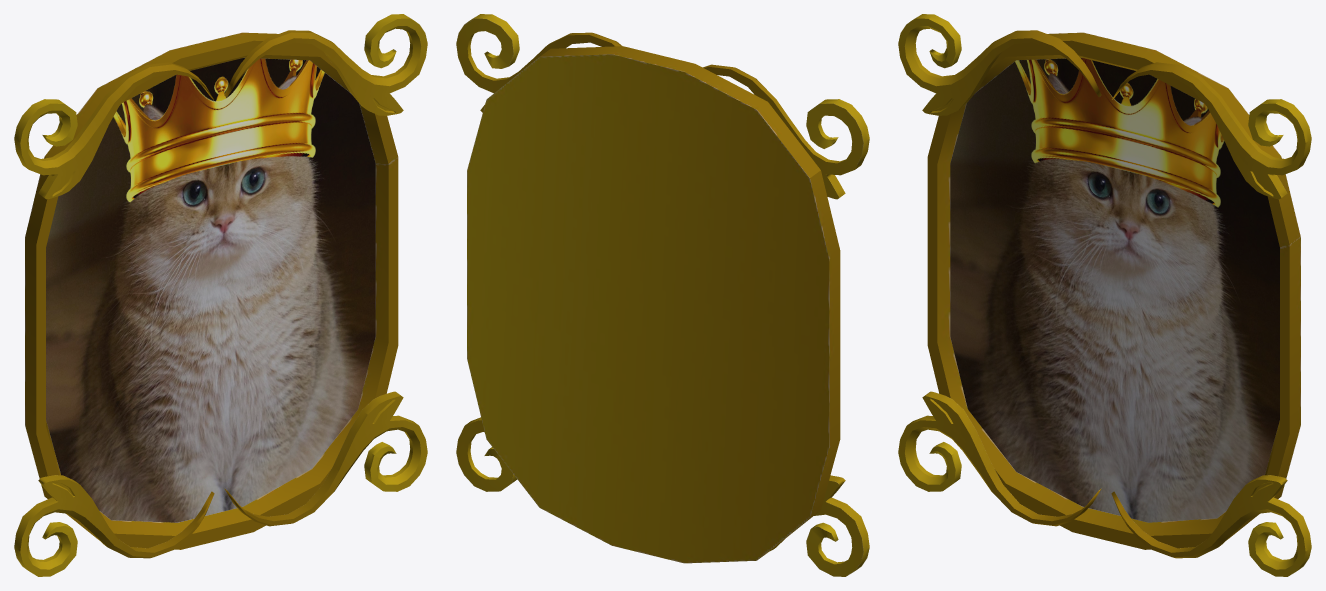
File: portrait.fbx
3 views of the same model, side by side, from view 1: azimuth 30°, elevation 25°; view 2: azimuth 150°, elevation 25°; view 3: azimuth 330°, elevation 25° (orthographic).
Visible parts, largest first — view 1: portrait; view 2: portrait; view 3: portrait.
Boxes of the visible parts, x1,y1,x2,y2 form: portrait: [14, 14, 427, 576]; portrait: [456, 14, 869, 576]; portrait: [898, 14, 1311, 576].
Bounding box in the file's own units: 1.77 × 2.05 × 0.1348.
